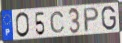3: (68, 7, 81, 35)
5: (34, 11, 46, 36)
C: (49, 11, 66, 34)
G: (101, 5, 118, 31)
O: (15, 12, 31, 39)
P: (83, 6, 100, 34)
